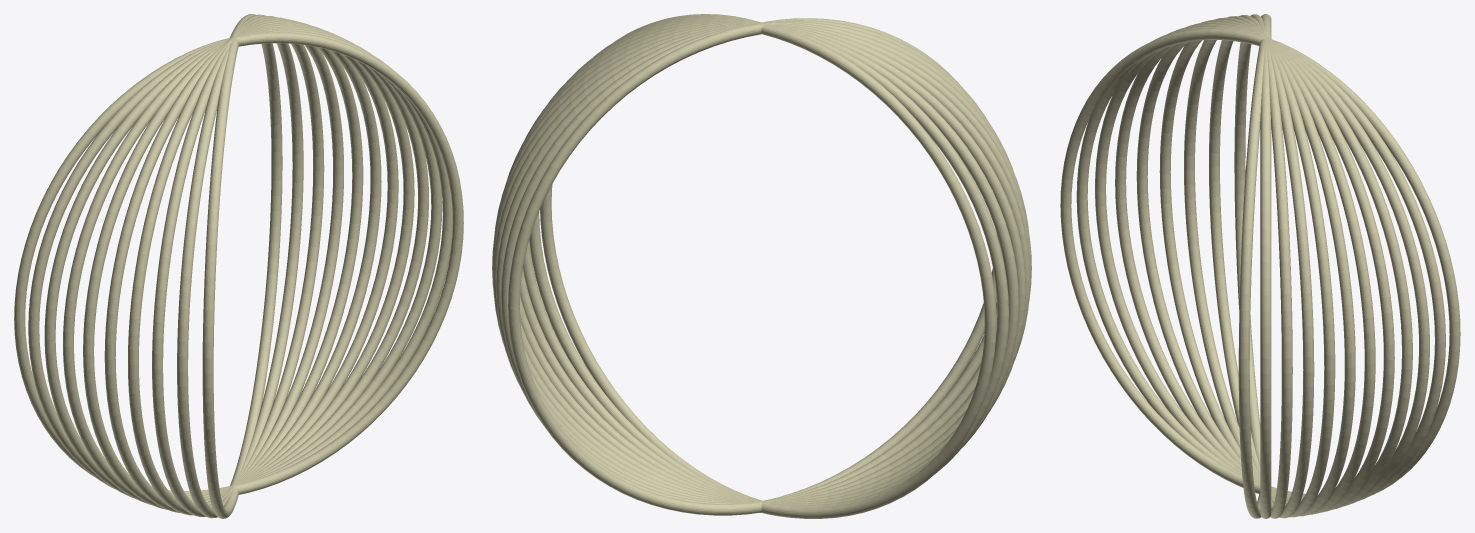
3 views of the same model, side by side, from view 1: azimuth 30°, elevation 25°; view 2: azimuth 150°, elevation 25°; view 3: azimuth 270°, elevation 25° (orthographic). The views are drawn at different scales.
Parts seen in each view (by area): view 1: Torus.021, Torus.009, Torus.006, Torus.005, Torus.007, Torus.004, Torus.003, Torus.008, Torus.002, Torus.001, Torus.010, Torus.015 (+10 smaller); view 2: Torus.010, Torus, Torus.001, Torus.002, Torus.003, Torus.021, Torus.011, Torus.020, Torus.004, Torus.012, Torus.019, Torus.009 (+10 smaller); view 3: Torus.009, Torus.021, Torus.016, Torus.015, Torus.014, Torus.017, Torus.020, Torus.013, Torus.019, Torus.018, Torus.006, Torus.007 (+9 smaller).
Boxes of the visible parts, box(x1,y1,x2,y2) form: Torus.021: box(235, 32, 463, 494); Torus.009: box(202, 38, 239, 518); Torus.006: box(128, 37, 234, 515); Torus.005: box(104, 41, 229, 512); Torus.007: box(152, 43, 235, 516); Torus.004: box(83, 43, 228, 509); Torus.003: box(63, 39, 228, 504); Torus.008: box(177, 47, 231, 518); Torus.002: box(44, 42, 227, 498); Torus.001: box(28, 37, 231, 495); Torus.010: box(230, 14, 282, 487); Torus.015: box(229, 20, 381, 488); Torus.010: box(508, 23, 765, 515); Torus: box(761, 26, 996, 518); Torus.001: box(762, 24, 1008, 507); Torus.002: box(771, 26, 1018, 505); Torus.003: box(769, 24, 1025, 503); Torus.021: box(540, 14, 762, 500); Torus.011: box(501, 23, 759, 503); Torus.020: box(529, 16, 769, 506); Torus.004: box(771, 24, 1030, 502); Torus.012: box(496, 23, 756, 502); Torus.019: box(523, 17, 769, 503); Torus.009: box(759, 18, 999, 512); Torus.009: box(1060, 28, 1263, 493); Torus.021: box(1238, 40, 1264, 518); Torus.016: box(1266, 40, 1355, 516); Torus.015: box(1263, 38, 1375, 514); Torus.014: box(1262, 38, 1394, 512); Torus.017: box(1265, 39, 1335, 517); Torus.020: box(1260, 39, 1271, 518); Torus.013: box(1269, 41, 1412, 509); Torus.019: box(1263, 39, 1292, 518); Torus.018: box(1266, 42, 1314, 518); Torus.006: box(1115, 21, 1266, 480); Torus.007: box(1095, 24, 1260, 483).
Size of the model in its own units: 2.61 by 2.61 by 2.07.
